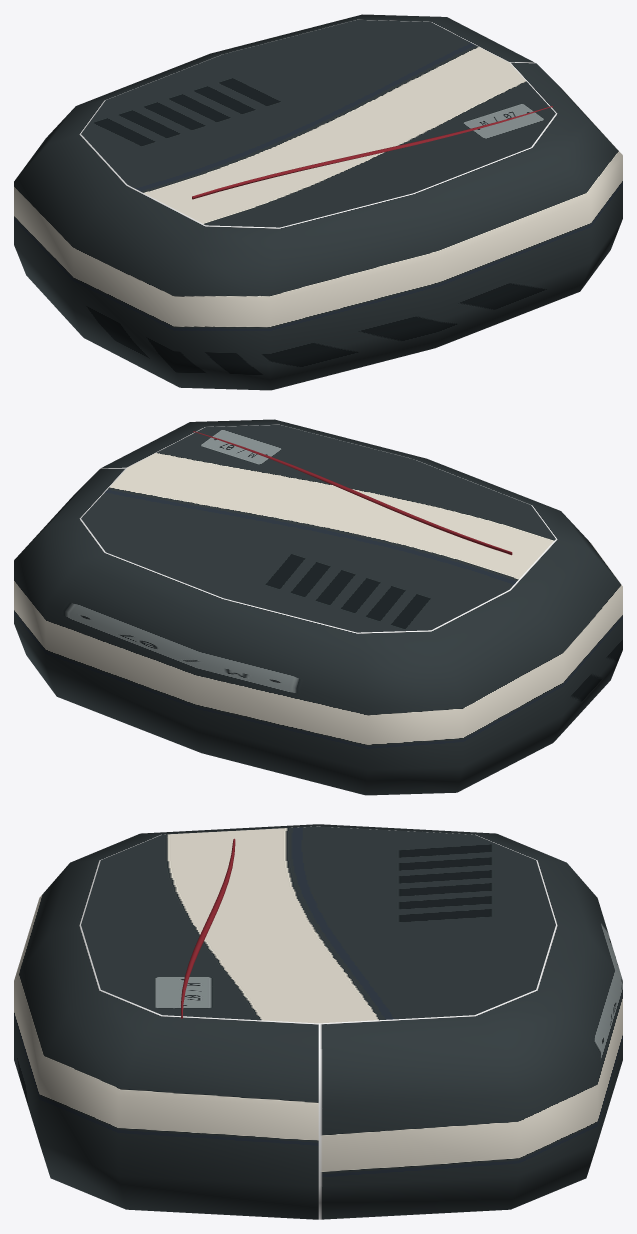
Rendered from MotorCowl_07_N_生成・紅緒.glb.
3 views of the same model, one above another, from view 1: azimuth 30°, elevation 25°; view 2: azimuth 150°, elevation 25°; view 3: azimuth 270°, elevation 25° (orthographic). The views are drawn at different scales.
Visible parts, largest first — view 1: MotorCowl_07_N; view 2: MotorCowl_07_N; view 3: MotorCowl_07_N.
Part boxes in pixels (x1,y1,x2,y2): MotorCowl_07_N: [14, 14, 622, 390]; MotorCowl_07_N: [14, 419, 622, 795]; MotorCowl_07_N: [14, 824, 622, 1219].
Size of the model in its own units: 0.332 by 0.1188 by 0.286.
1 material, 1 textured.
